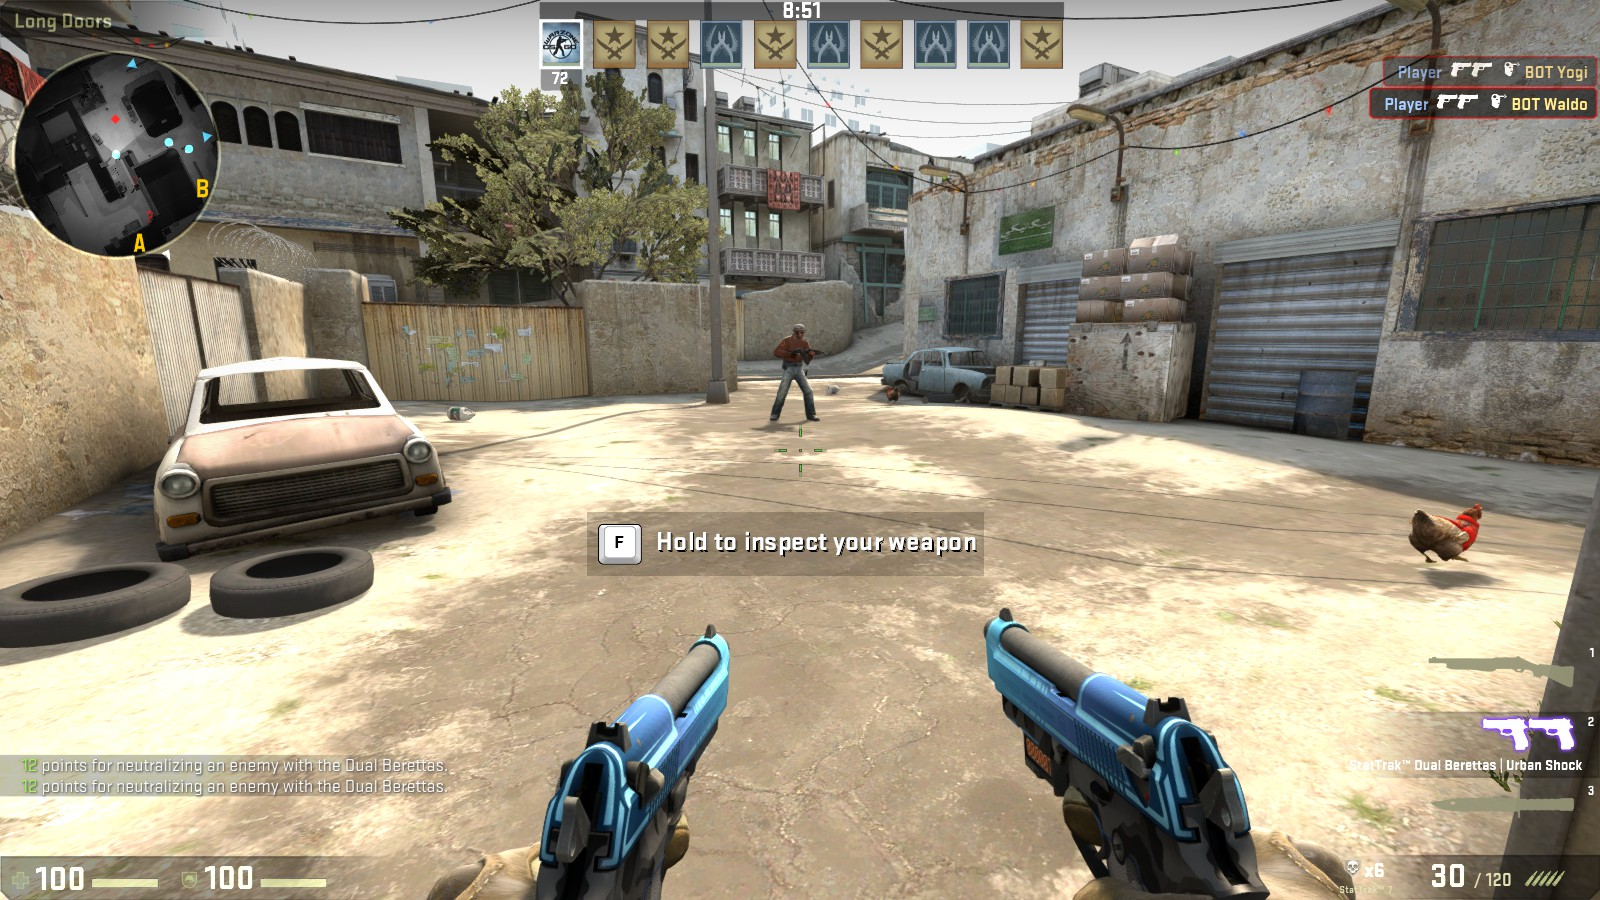t: (776, 324, 816, 421)
th: (788, 323, 810, 341)
